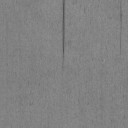surface scratch: (62, 0, 66, 60), (120, 6, 122, 24)
